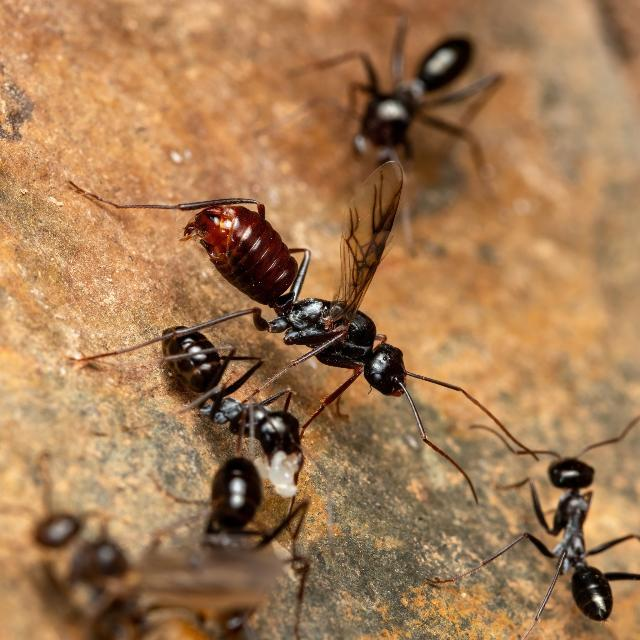Cataglyphis: (159, 173, 439, 427), (326, 15, 498, 192), (503, 418, 637, 640), (150, 308, 320, 468), (162, 436, 290, 640), (190, 364, 318, 464), (24, 496, 140, 590)
